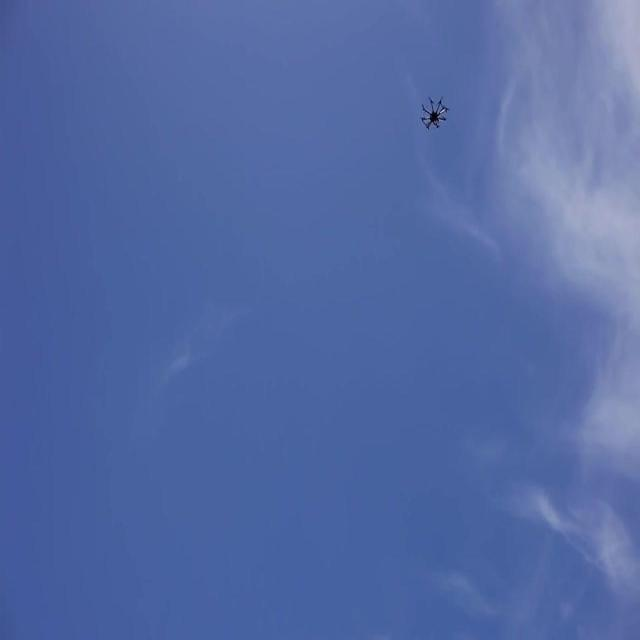drone: (416, 92, 452, 134)
